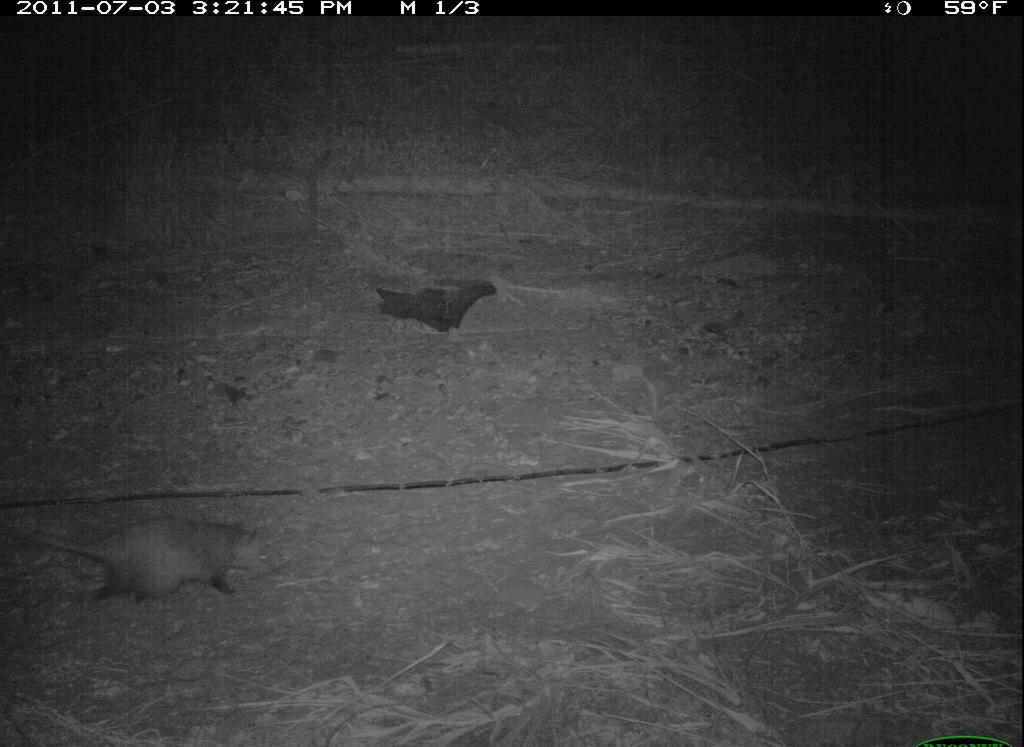opossum: (16, 500, 286, 612)
